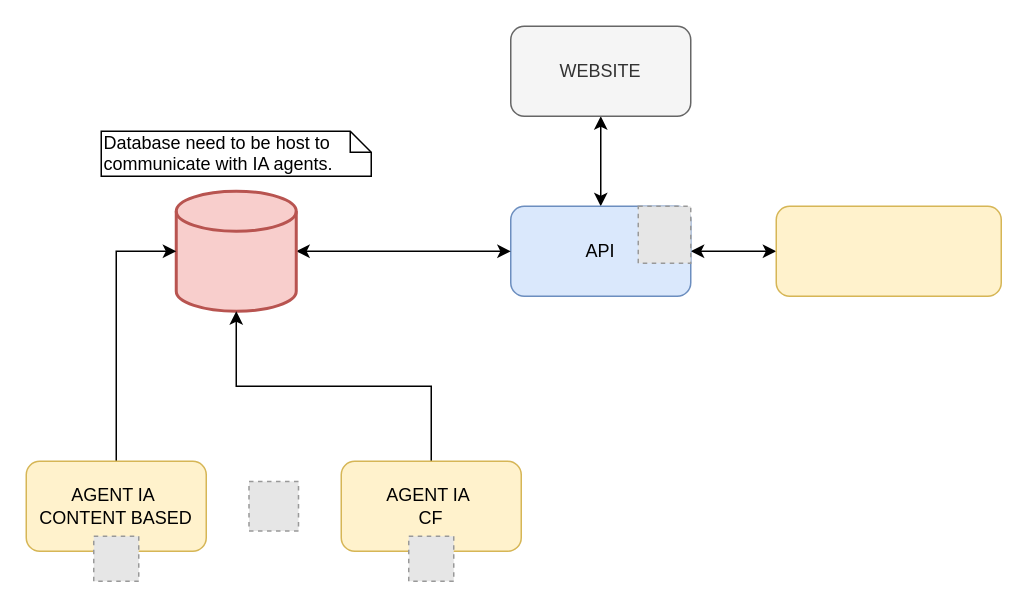
Some shapes in this 1028 by 608 pixel diagram are drawn without their labels. Grey dashed boxes stand in for pictures. The shapes that lost their labels are listed below. From the top down, each one's centre as x and y in pixels, then its label:
the point at 235,250: DB
the point at 888,250: Knowledge based RS
